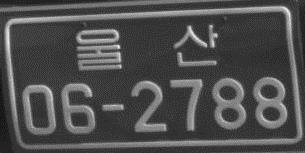-: (98, 101, 126, 114)
0: (20, 81, 58, 137)
2: (129, 79, 169, 135)
6: (59, 81, 96, 136)
7: (168, 76, 204, 135)
8: (251, 76, 289, 129), (211, 76, 247, 131)
울산_D: (75, 21, 220, 73)
